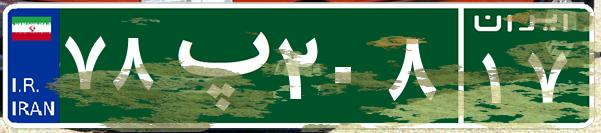0: (330, 28, 385, 110)
1: (475, 38, 525, 113)
2: (273, 28, 330, 110)
7: (57, 26, 110, 107), (525, 38, 570, 115)
8: (385, 28, 445, 110), (110, 28, 158, 105)
پ: (158, 15, 273, 115)
